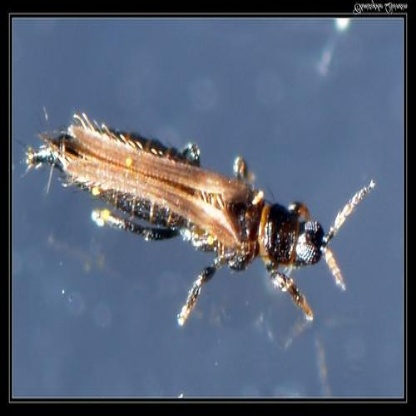Thrips: (34, 110, 334, 322)
